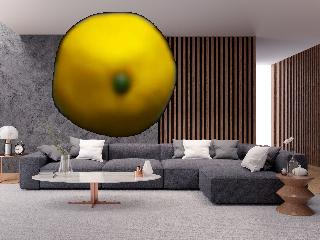lemon: (55, 13, 177, 136)
